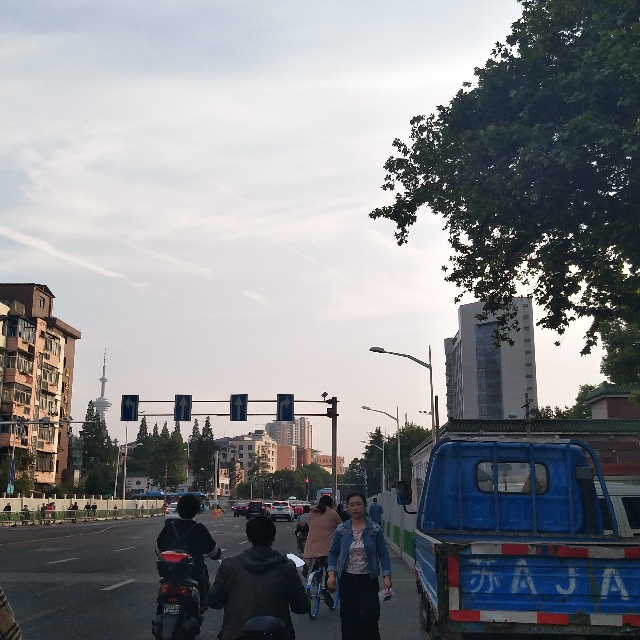left: (122, 396, 138, 422)
right: (278, 393, 293, 422)
straight: (232, 394, 246, 420), (178, 394, 189, 422)
